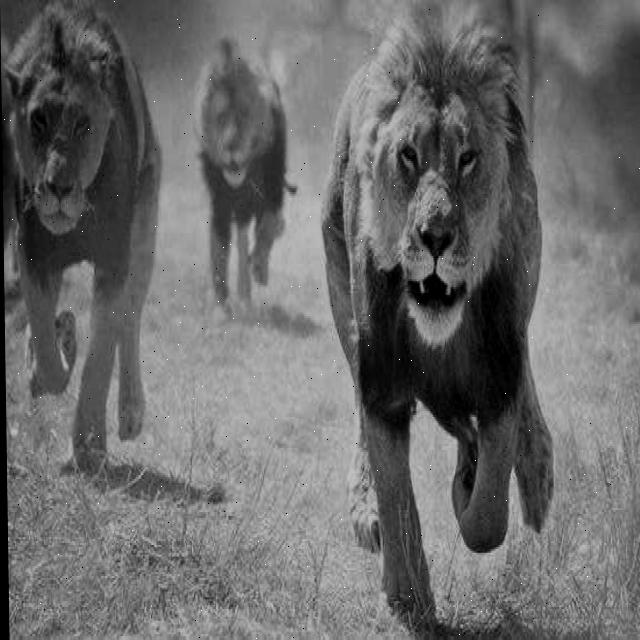Lion: (322, 23, 575, 524), (16, 11, 173, 466)
